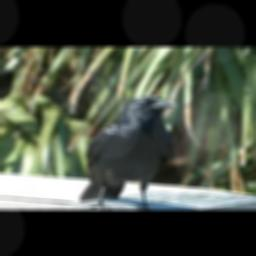Crow: (80, 95, 176, 209)
